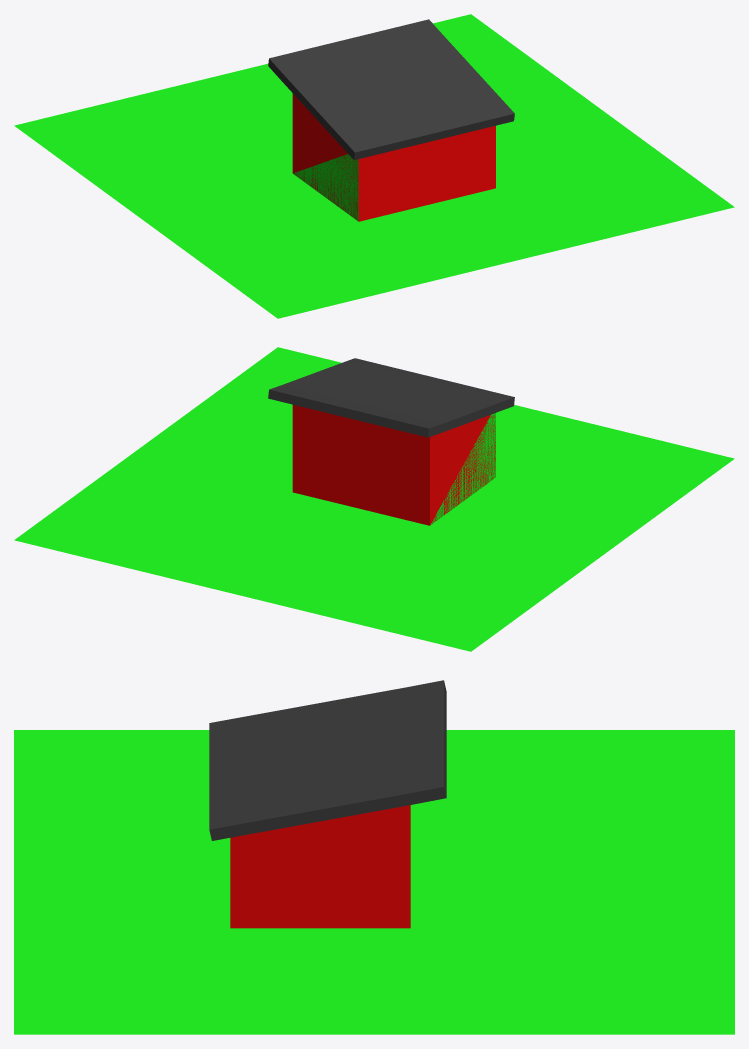
The model's file is House.obj.
3 views of the same model, one above another, from view 1: azimuth 30°, elevation 25°; view 2: azimuth 150°, elevation 25°; view 3: azimuth 270°, elevation 25° (orthographic). The views are drawn at different scales.
Bounding box in the file's own units: 20 × 4.56 × 20.
